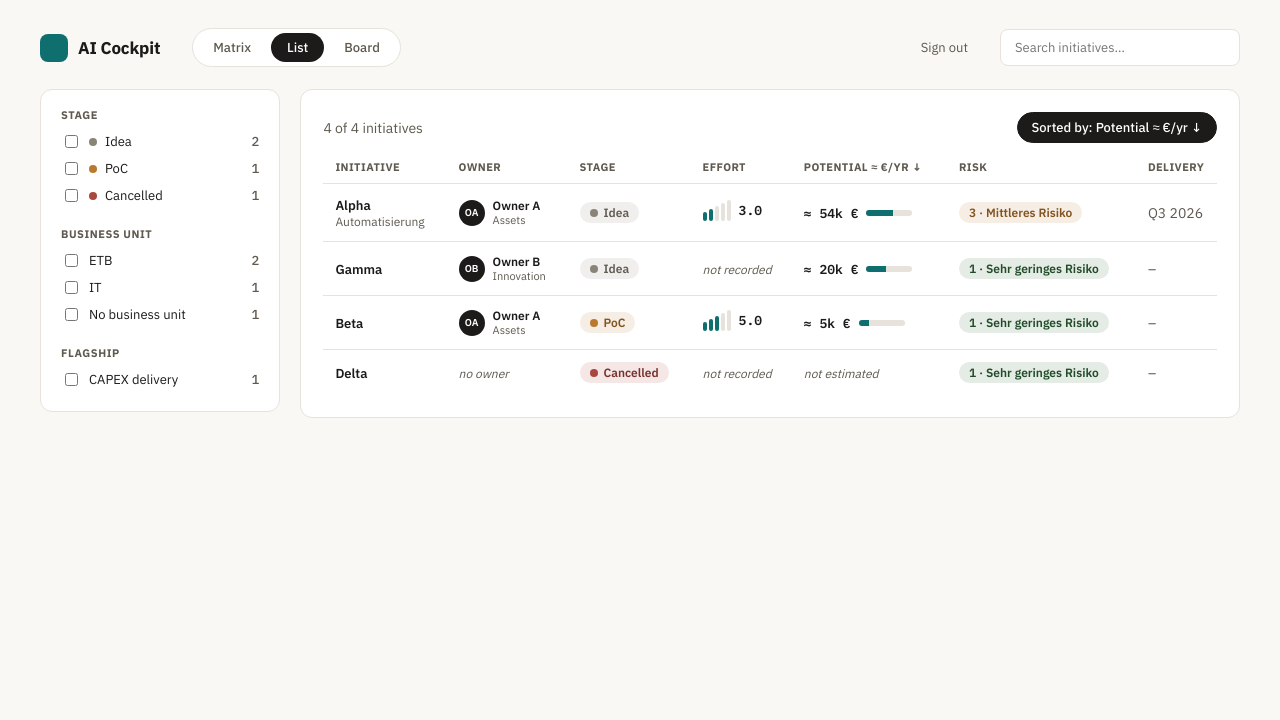
Scenario: app › list sorts and opens a detail dialog that closes on Escape
Click the button "Beta" at (349, 323), box x1=335 y1=314 x2=363 y2=332
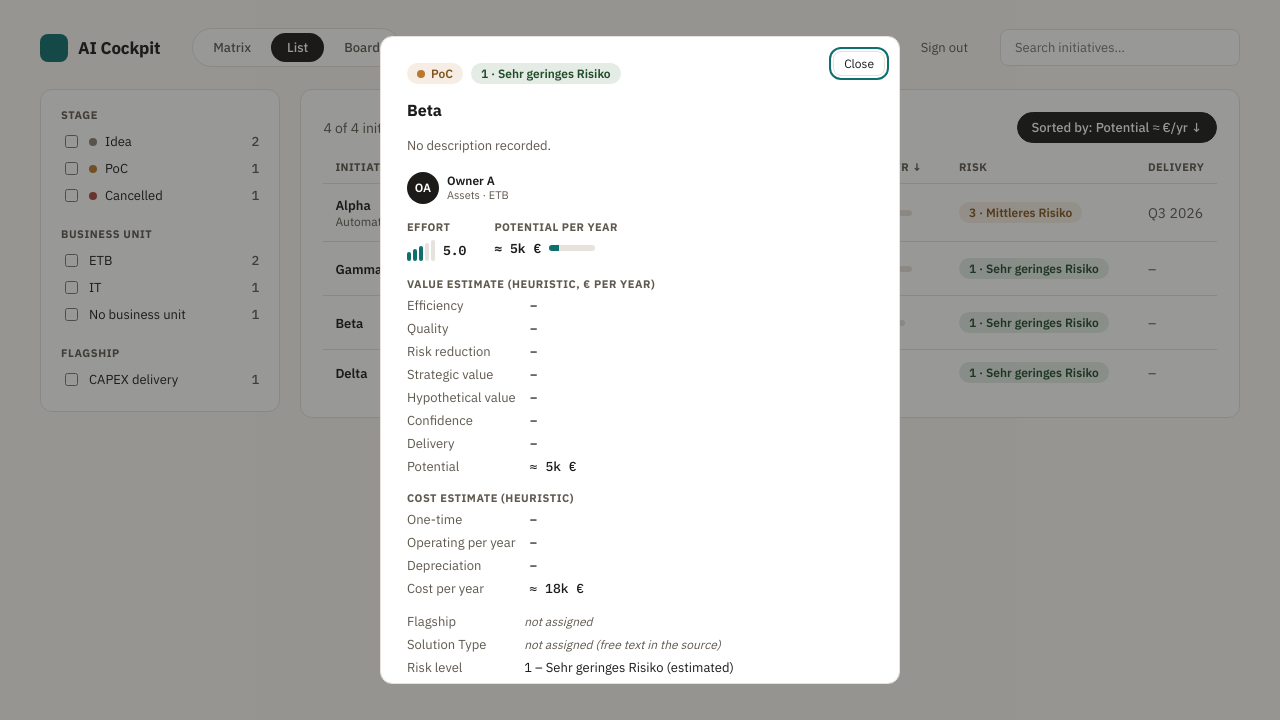
Expected: the dialog "Beta" is shown, x1=380 y1=36 x2=900 y2=684
Press Escape
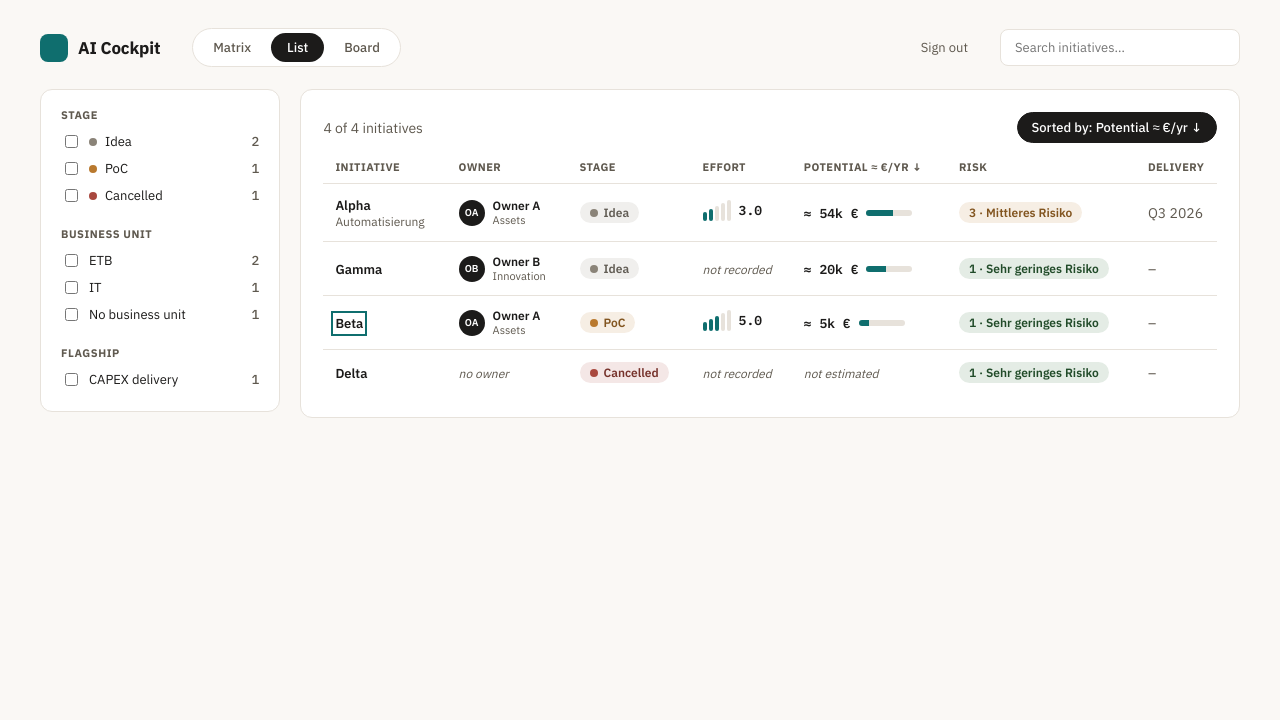
Expected: the dialog is gone
